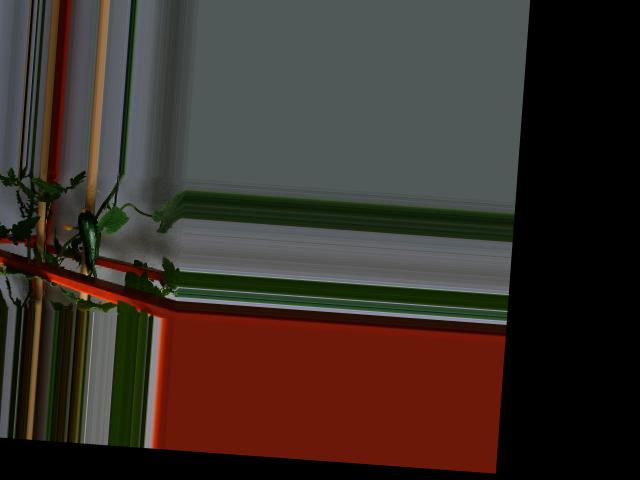cucumber: (74, 205, 102, 267)
